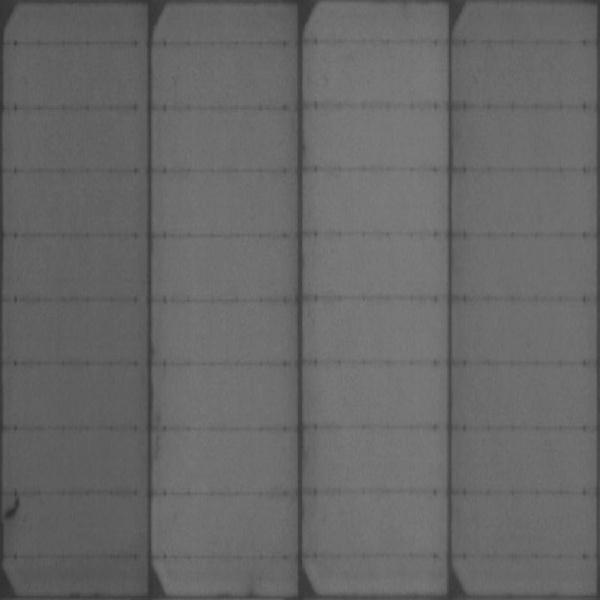scratch: (1, 487, 28, 529)
